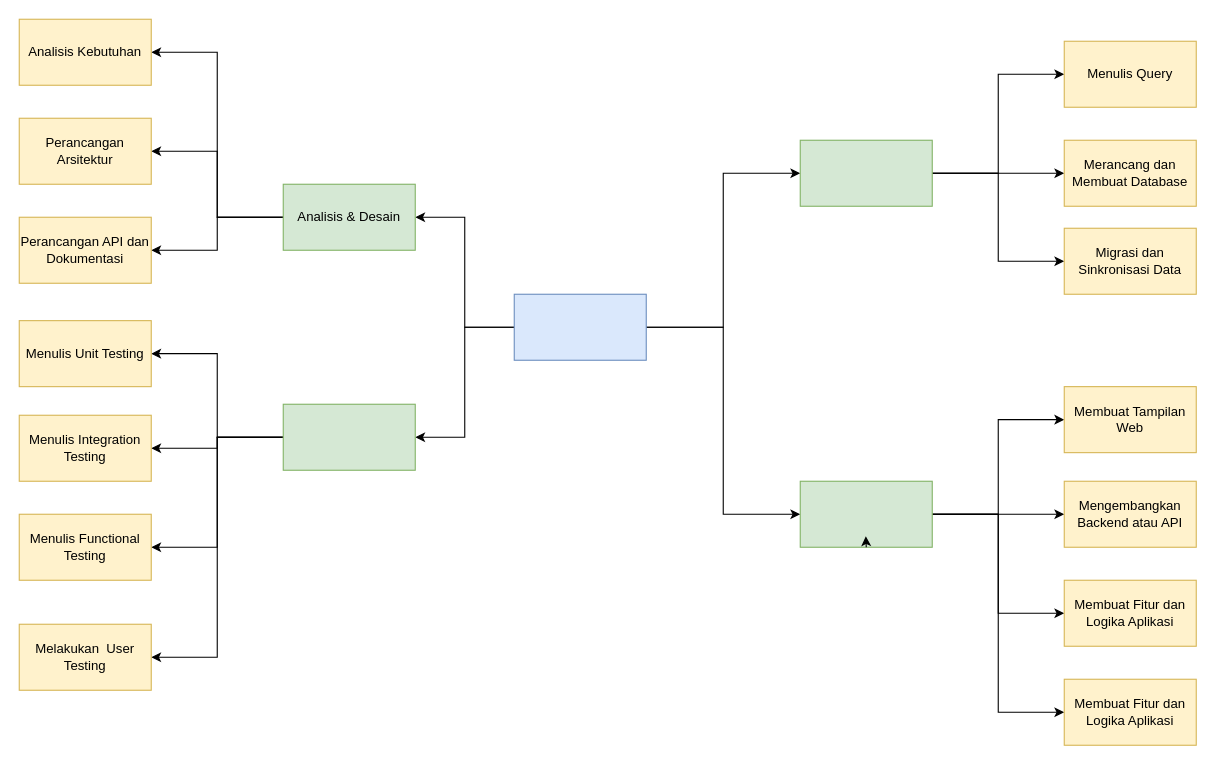
The diagram is 1216 pixels wide and 765 high, and some of its shapes have lost their labels. Each missing label, with the centre of its shape:
"Coding" goes at (865,513).
"Database" goes at (865,172).
"Testing" goes at (348,436).
"Web Programmer" goes at (579,326).
